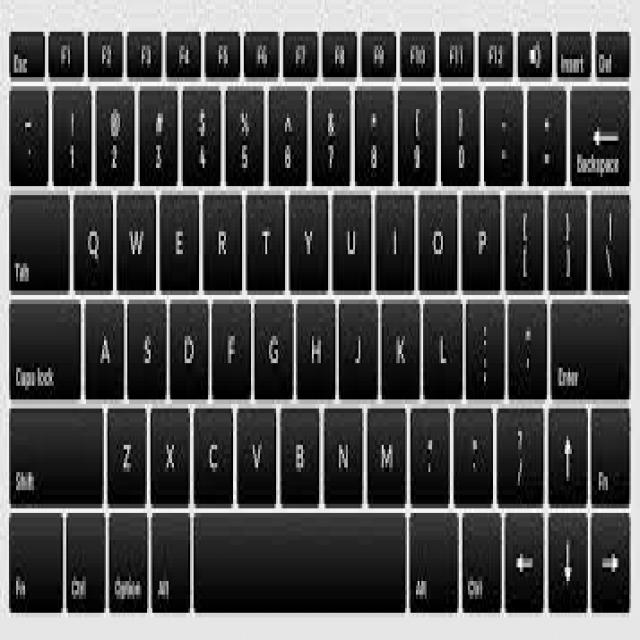others: (7, 28, 640, 626)
